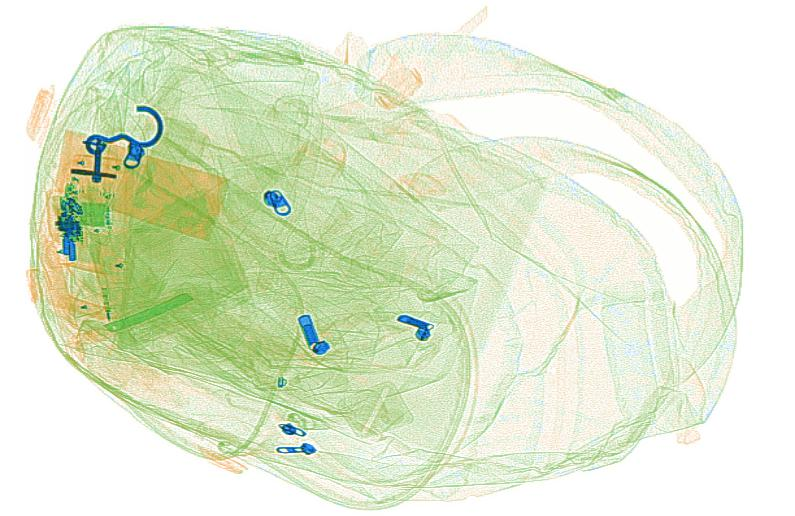knife: (103, 291, 197, 334)
